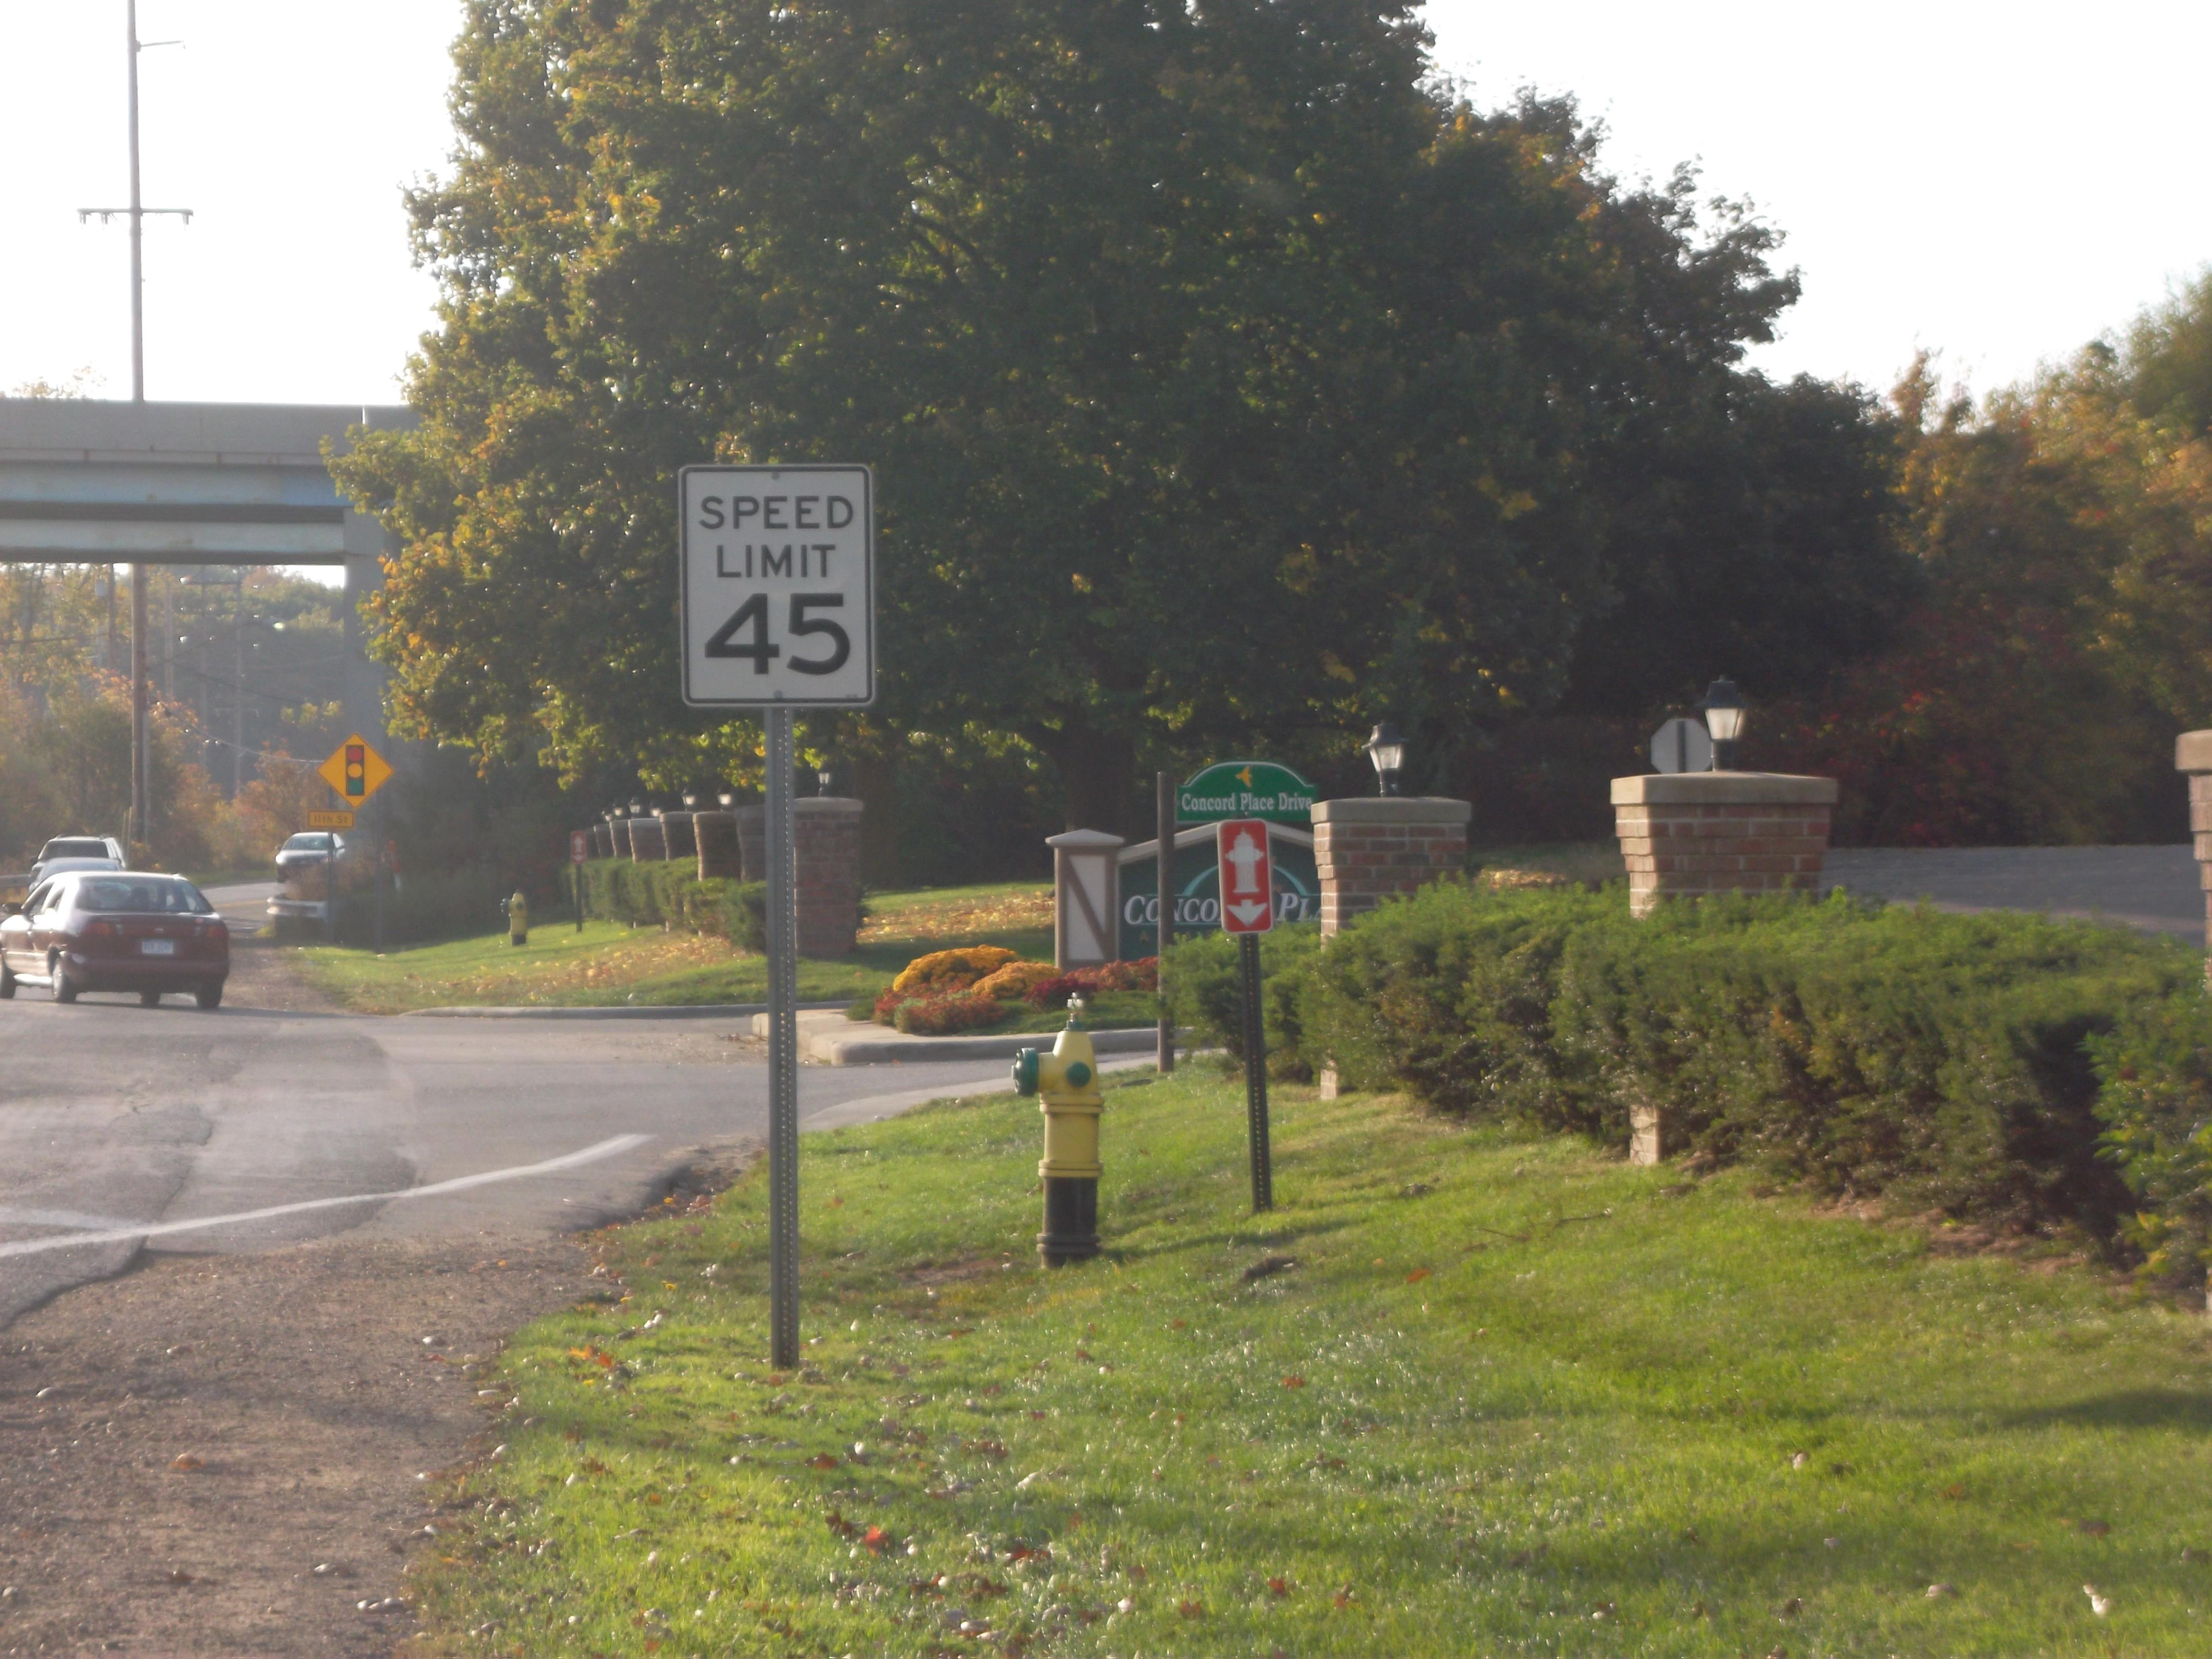regulatory: (671, 458, 883, 714)
warning: (308, 718, 388, 826)
